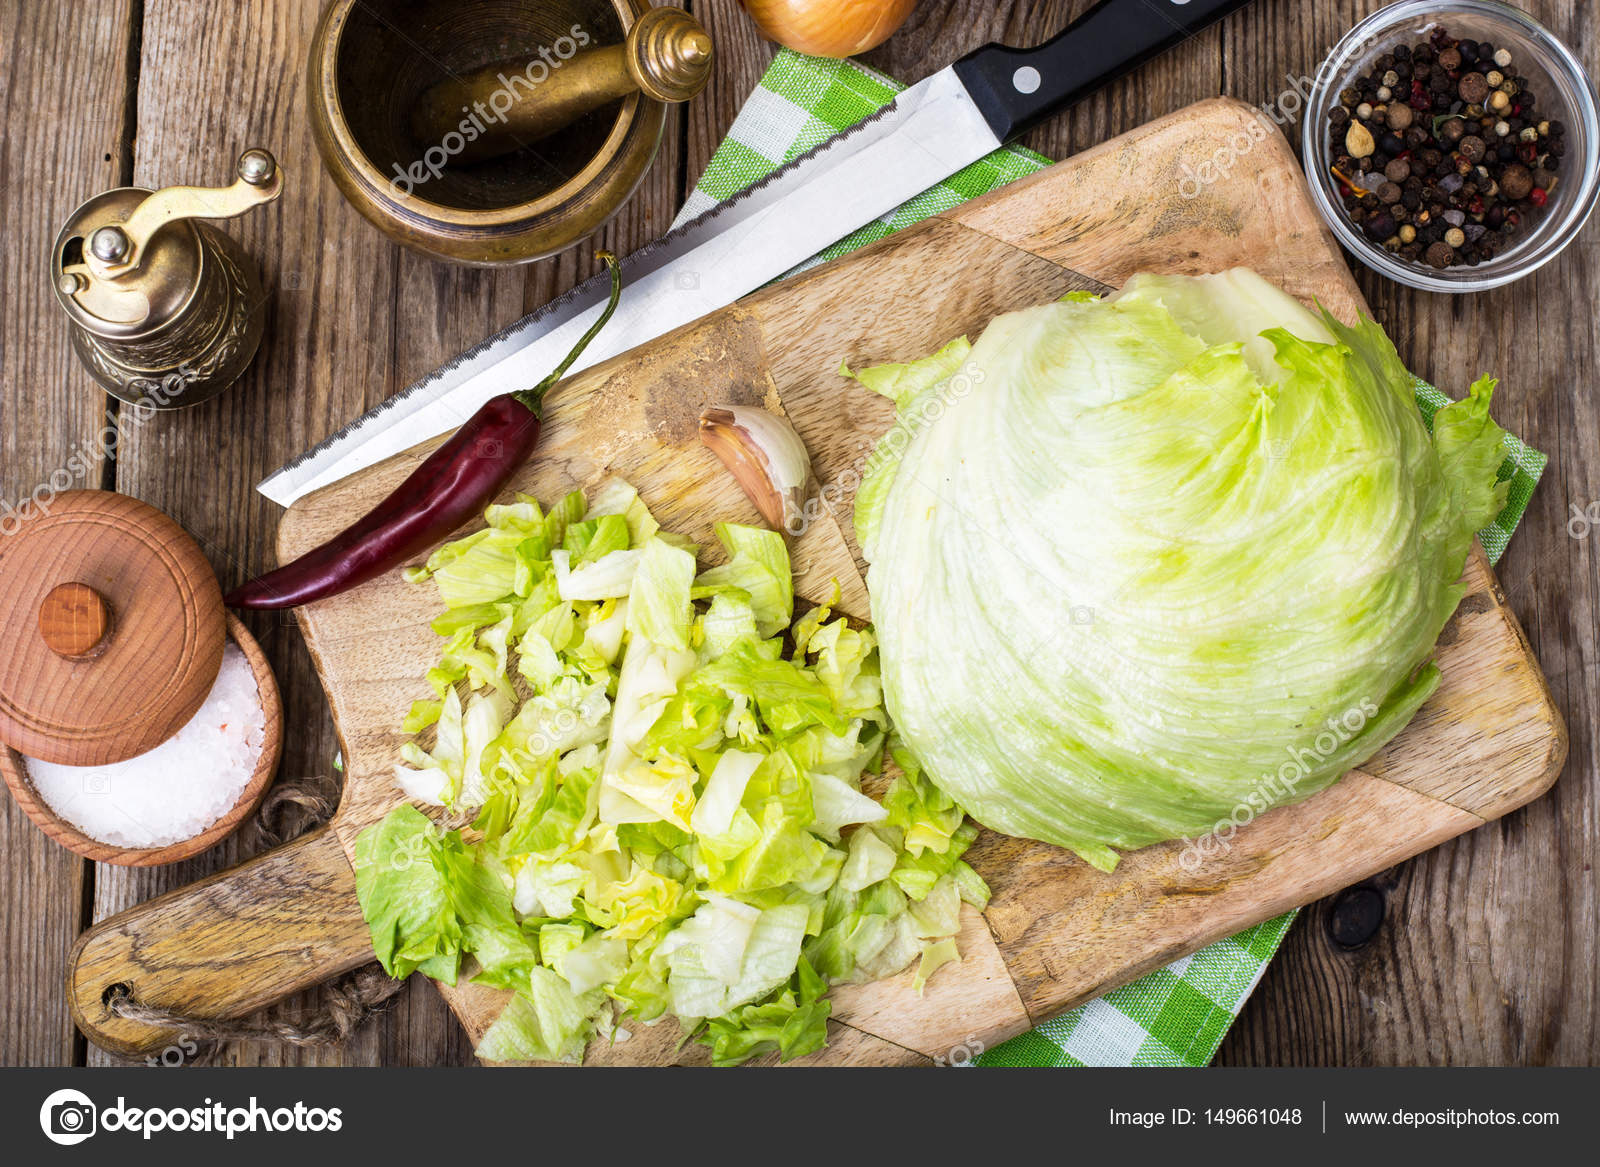chopped lettuce: (472, 563, 884, 995)
